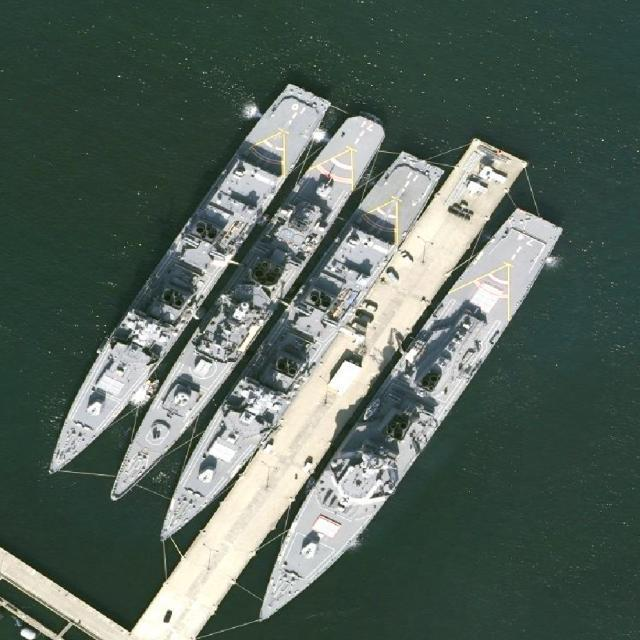Destroyer: (237, 198, 564, 639), (133, 141, 452, 557), (26, 70, 339, 493), (87, 103, 394, 521)
